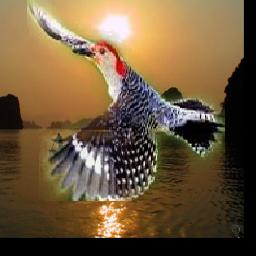Woodpecker: (27, 0, 225, 201)
